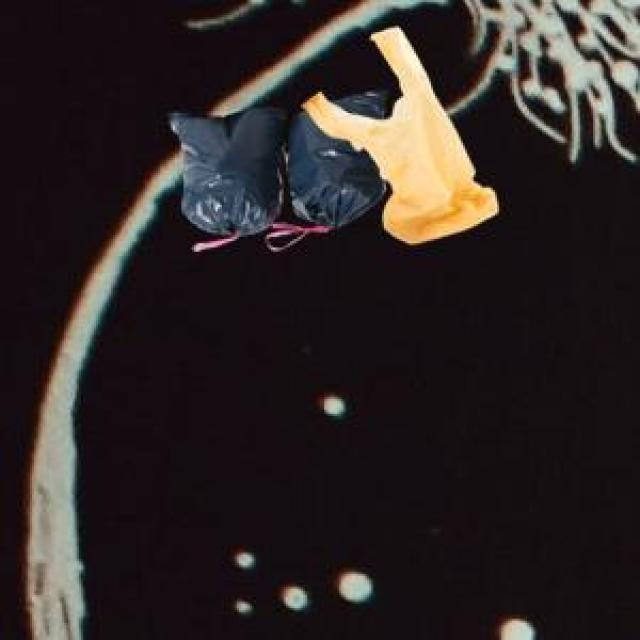miscellaneous trash: (164, 88, 382, 248)
